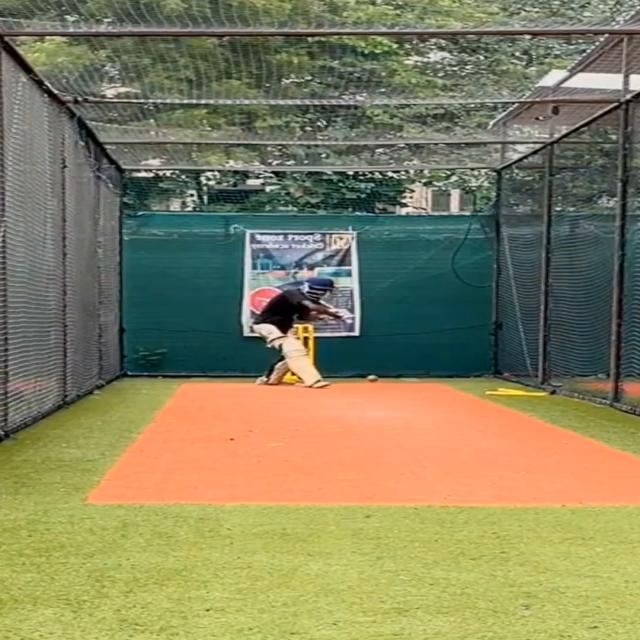ball: (366, 375, 379, 383)
stump: (295, 324, 315, 383)
